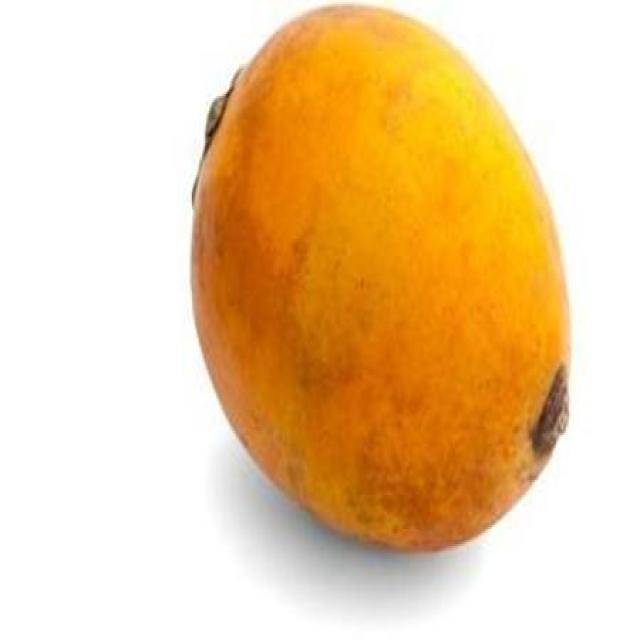good: (191, 4, 572, 555)
